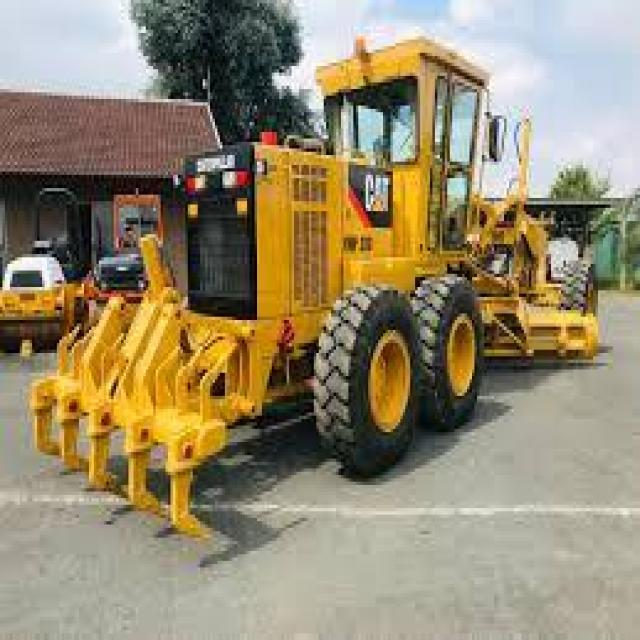Grader: (30, 26, 638, 528)
